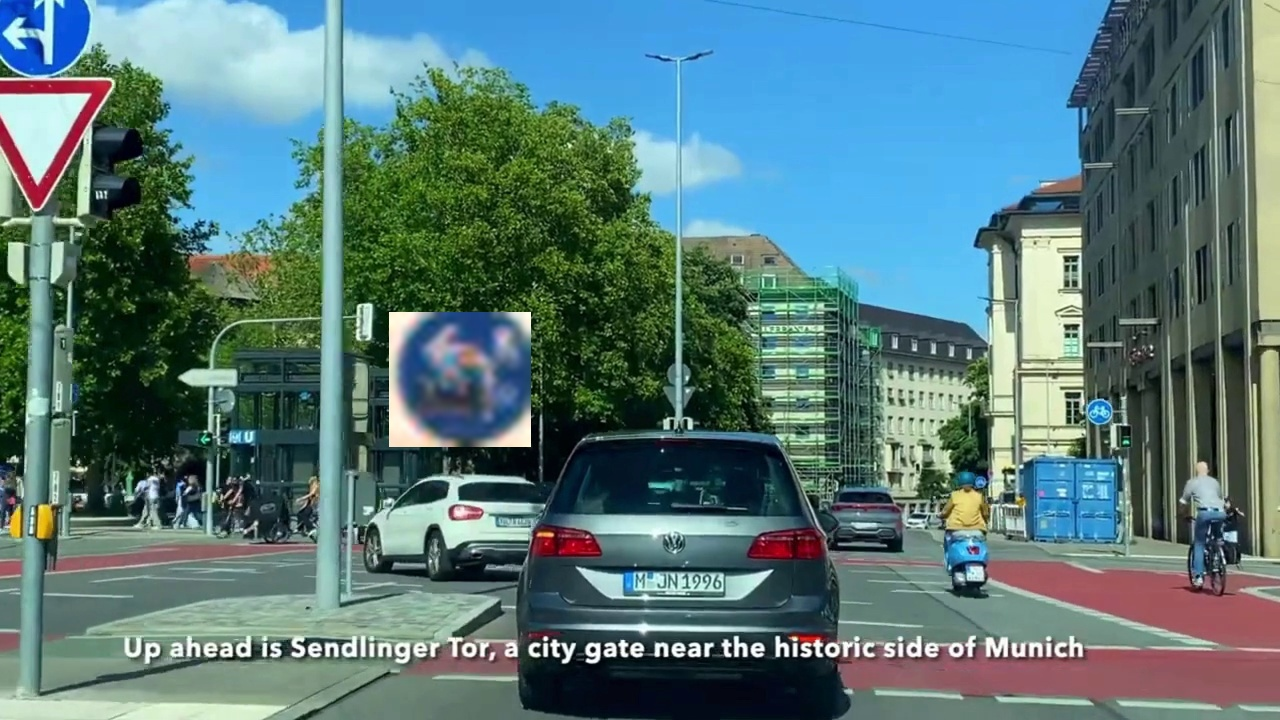Turn left: (389, 312, 531, 447)
